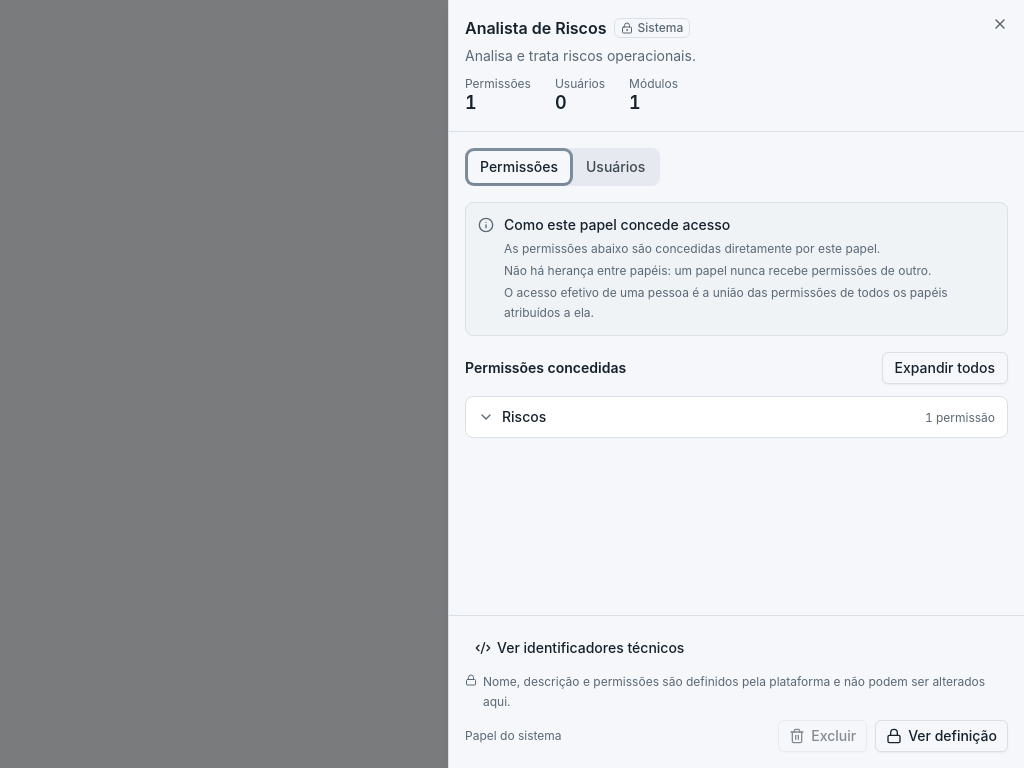
Test case: RoleDetailPanel — authorization gating of the panel actions (FR-026) › opens that definition sheet with no save control — only a way back (F-68)
Click the button "Ver definição" at {"x": 942, "y": 736}, box [875, 720, 1008, 752]
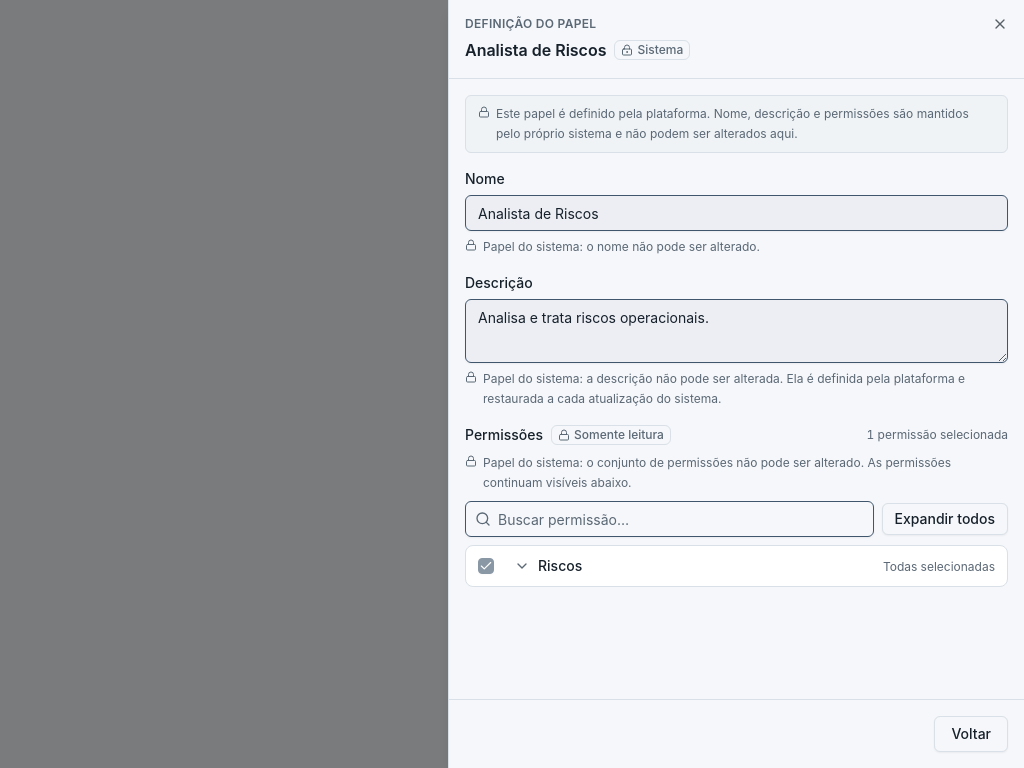
Check: the text "Definição do papel" is shown, box [465, 16, 596, 31]
Check: the button "Voltar" is shown
Click the button "Voltar" at {"x": 971, "y": 734}, box [934, 716, 1008, 752]
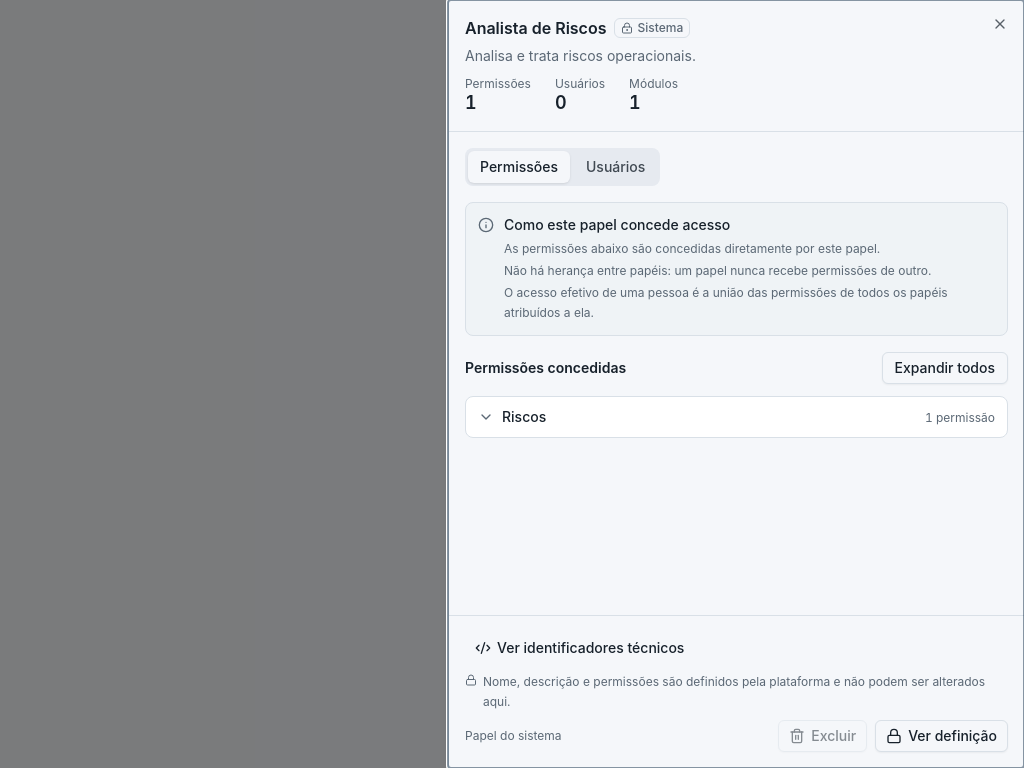
Check: the button "Ver definição" is shown, box [875, 720, 1008, 752]
